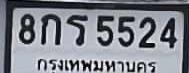2: (138, 16, 155, 47)
4: (158, 16, 176, 47)
5: (117, 15, 134, 46), (96, 14, 113, 45)
8: (18, 13, 34, 43)
A01: (40, 13, 60, 44)
A35: (66, 14, 87, 45)
BKK: (34, 56, 158, 73)
